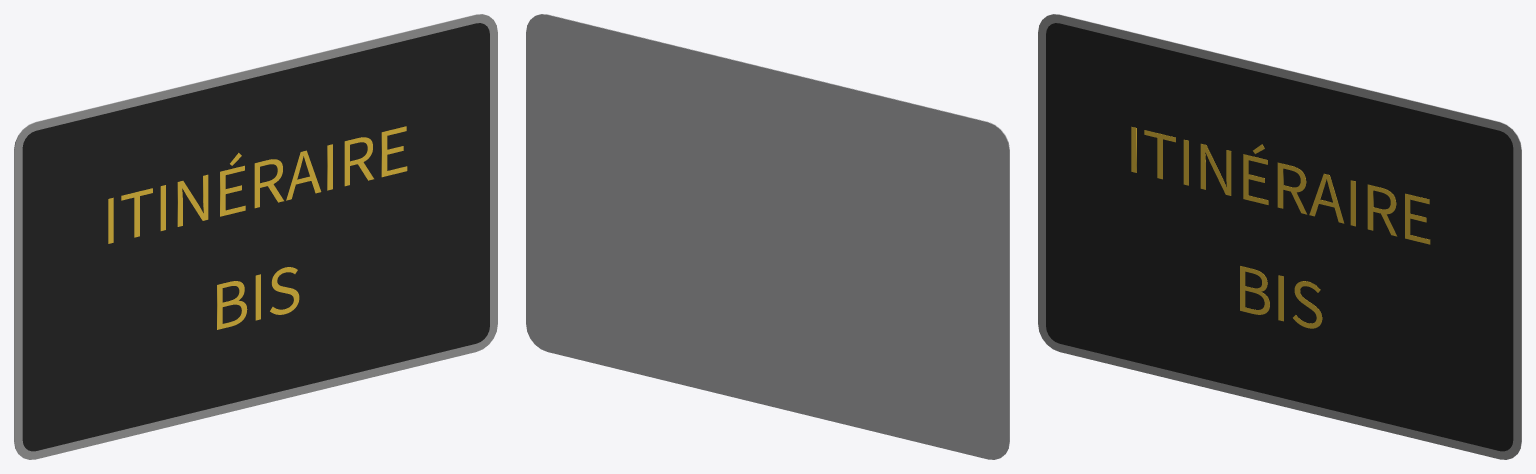
The picture shows the model from 3 angles, left to right: view 1: azimuth 30°, elevation 25°; view 2: azimuth 150°, elevation 25°; view 3: azimuth 330°, elevation 25°; orthographic projection.
Parts seen in each view (by area): view 1: XD41_r01, XD41_r00, XD41_txt02, XD41_txt03, XD41_dos; view 2: XD41_dos, XD41_r00; view 3: XD41_r01, XD41_r00, XD41_txt02, XD41_txt03, XD41_dos.
Part boxes in pixels (x1,y1,x2,y2): XD41_r01: (22, 23, 489, 451); XD41_r00: (14, 14, 497, 459); XD41_txt02: (108, 126, 407, 243); XD41_txt03: (217, 267, 299, 329); XD41_dos: (14, 14, 487, 452); XD41_dos: (526, 14, 1009, 459); XD41_r00: (542, 14, 1009, 448); XD41_r01: (1046, 23, 1513, 451); XD41_r00: (1038, 14, 1521, 459); XD41_txt02: (1131, 126, 1430, 244); XD41_txt03: (1240, 266, 1322, 328); XD41_dos: (1048, 14, 1521, 452).
Size of the model in its own units: 0.9 by 0.6 by 0.0029.
